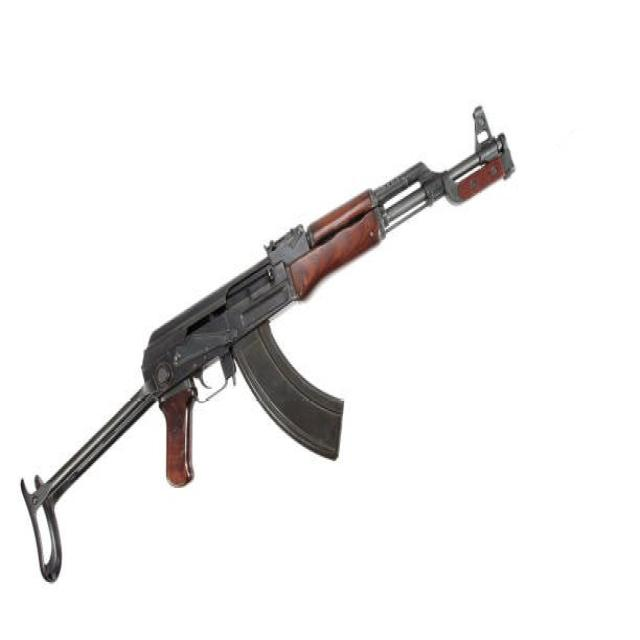rifle: (14, 96, 519, 597)
